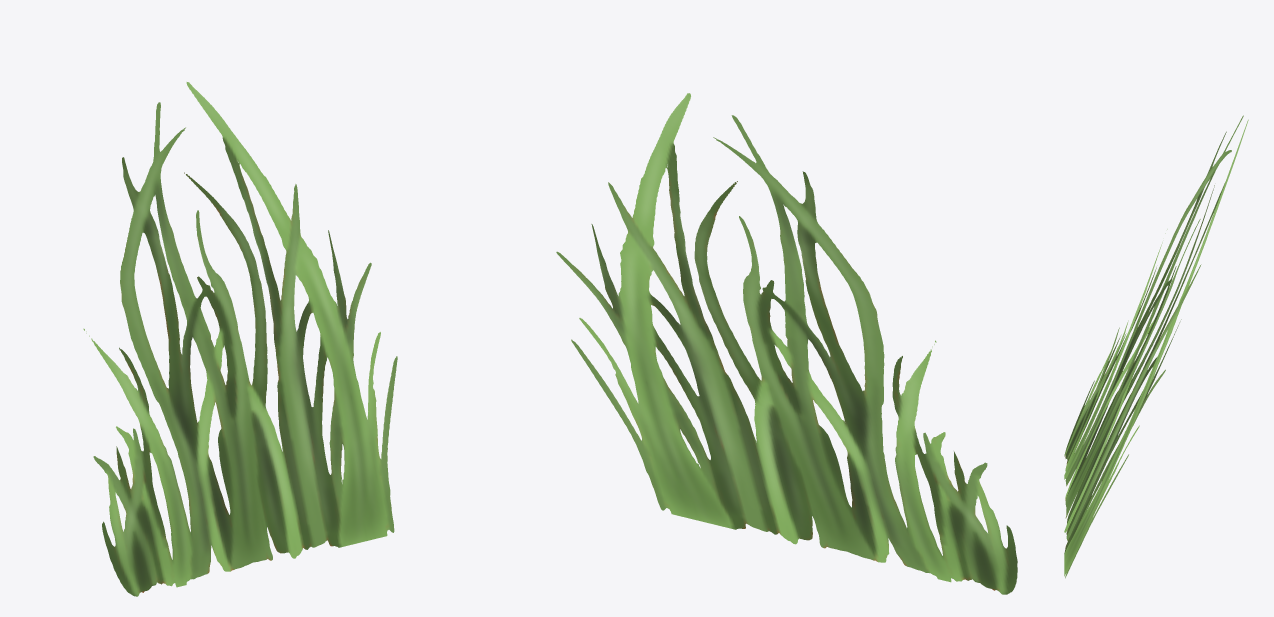
File: GrassMesh02.fbx
3 views of the same model, side by side, from view 1: azimuth 30°, elevation 25°; view 2: azimuth 150°, elevation 25°; view 3: azimuth 270°, elevation 25° (orthographic). The views are drawn at different scales.
Visible parts, largest first — view 1: GrassMesh02; view 2: GrassMesh02; view 3: GrassMesh02.
Boxes of the visible parts, left/top/right/bottom form: GrassMesh02: left=83, top=82, right=397, bottom=596; GrassMesh02: left=556, top=93, right=1017, bottom=594; GrassMesh02: left=1064, top=115, right=1248, bottom=578.
Size of the model in its own units: 1000 by 1272 by 523.
1 material, 1 textured.
